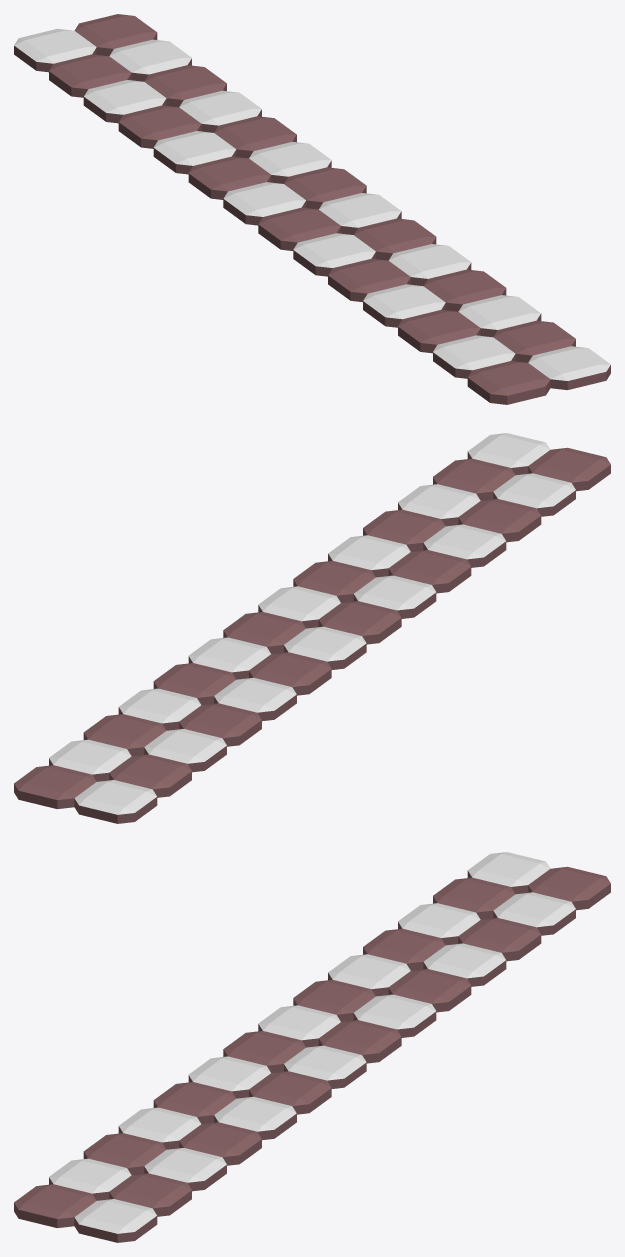
Rendered from kaldrm.fbx.
The picture shows the model from 3 angles, top to bottom: view 1: azimuth 30°, elevation 25°; view 2: azimuth 150°, elevation 25°; view 3: azimuth 330°, elevation 25°; orthographic projection.
Visible parts, largest first — view 1: Cube; view 2: Cube; view 3: Cube.
Boxes of the visible parts, left/top/right/bottom form: Cube: left=14, top=14, right=610, bottom=404; Cube: left=14, top=433, right=610, bottom=823; Cube: left=14, top=852, right=610, bottom=1242.
Size of the model in its own units: 400 by 44.74 by 2800.
